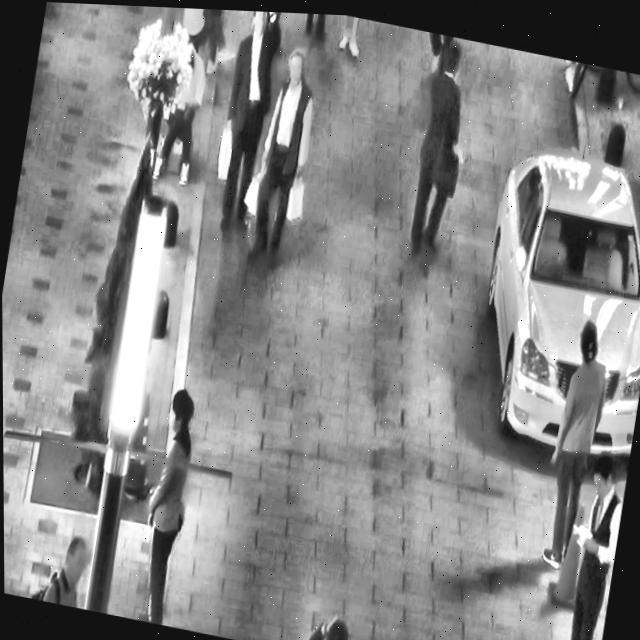light_vehicle: (455, 115, 640, 464)
